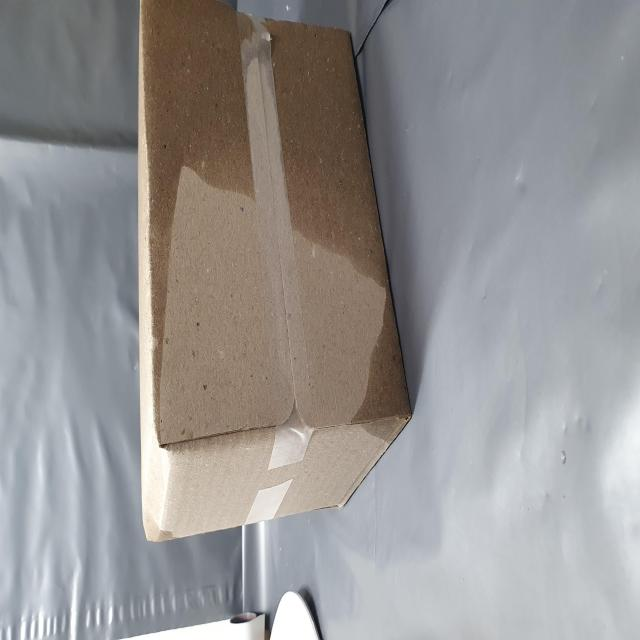wet: (61, 266, 356, 640)
